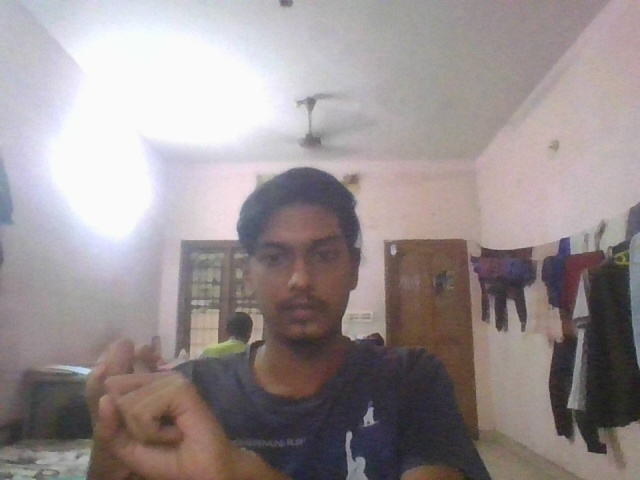friend: (72, 338, 242, 480)
